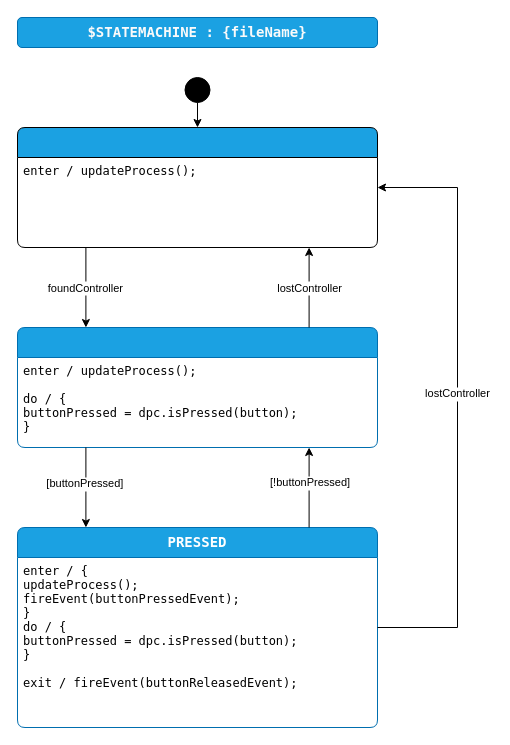
Some shapes in this 510 by 745 pixel diagram are drawn without their labels. Here are the shapes that lost their labels. From the top down, the box of each, then its label:
(16, 126, 378, 248): NOCONNECTION
(16, 326, 378, 448): RELEASED
